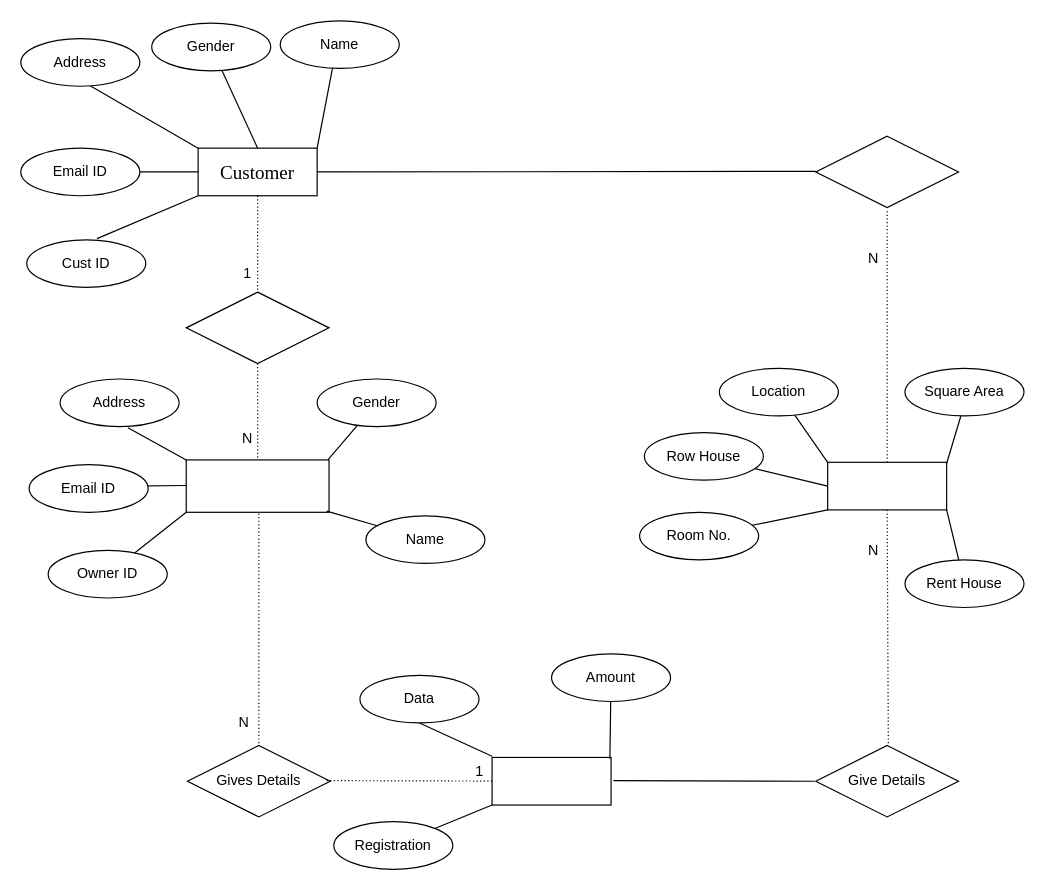
The diagram is 1045 pixels wide and 890 high, and some of its shapes have lost their labels. Here are the shapes that lost their labels. From the top down, the centre of each, then its label:
the point at 887,171: Choose Rent House
the point at 257,327: Choose
the point at 257,485: Owner Details
the point at 886,485: Rent House Details
the point at 551,780: Registration Details
